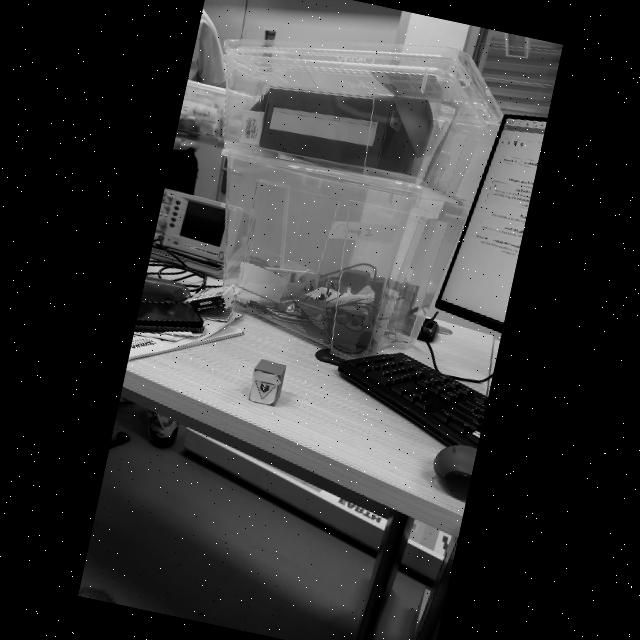Earthquake: (256, 380, 274, 396)
